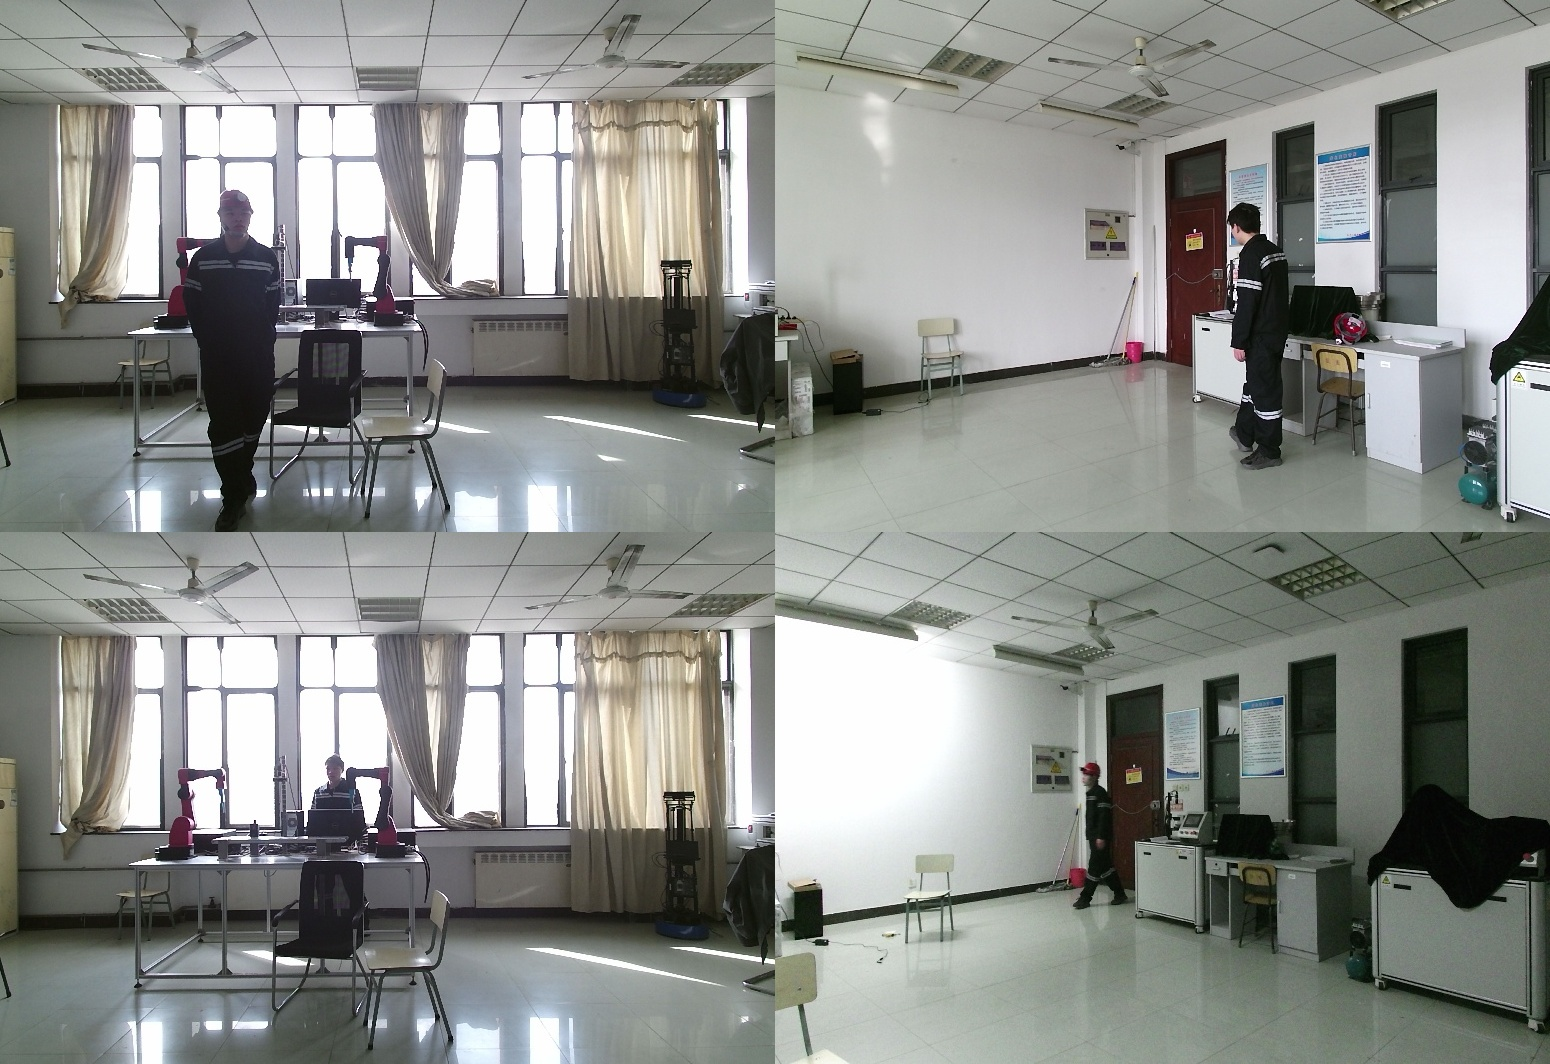person: (179, 189, 290, 532), (1231, 202, 1308, 470), (1074, 764, 1126, 912), (303, 755, 369, 833)
